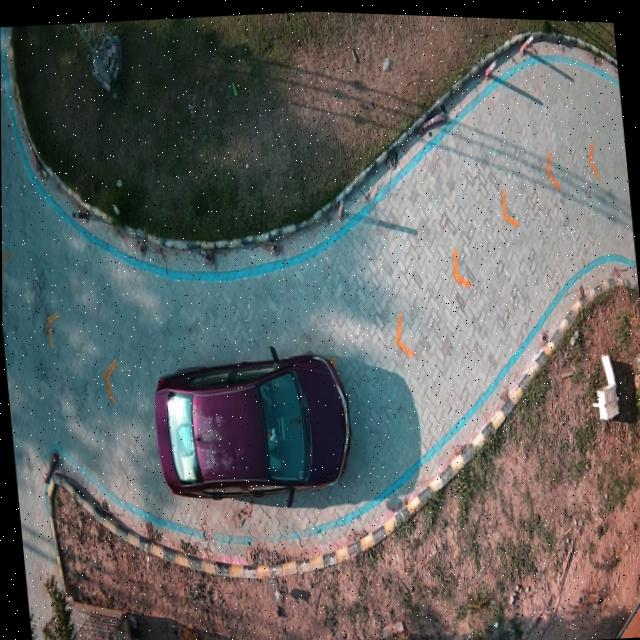car: (154, 350, 350, 501)
